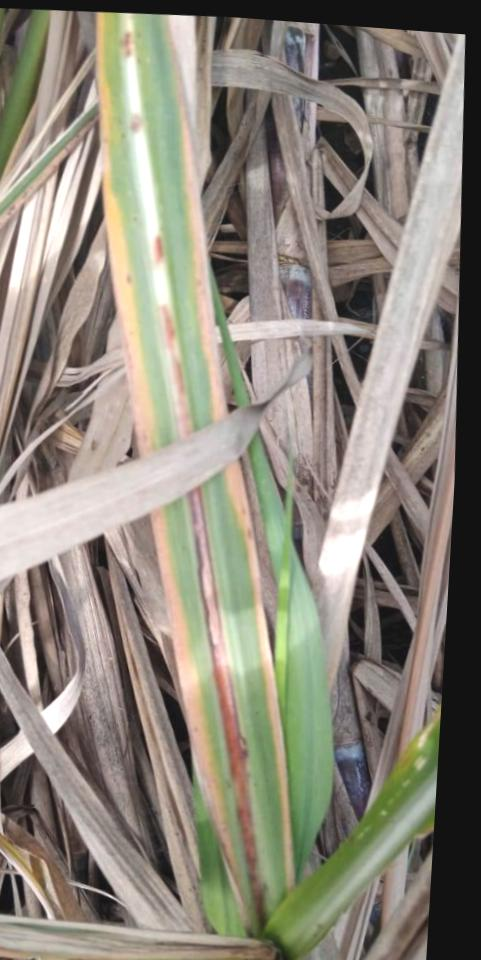RedRot: (188, 486, 266, 925), (158, 301, 190, 439), (150, 232, 164, 267), (126, 111, 143, 135), (121, 31, 130, 61)
Yellow: (149, 509, 242, 898), (225, 459, 295, 894), (95, 12, 158, 457), (177, 69, 226, 423)
